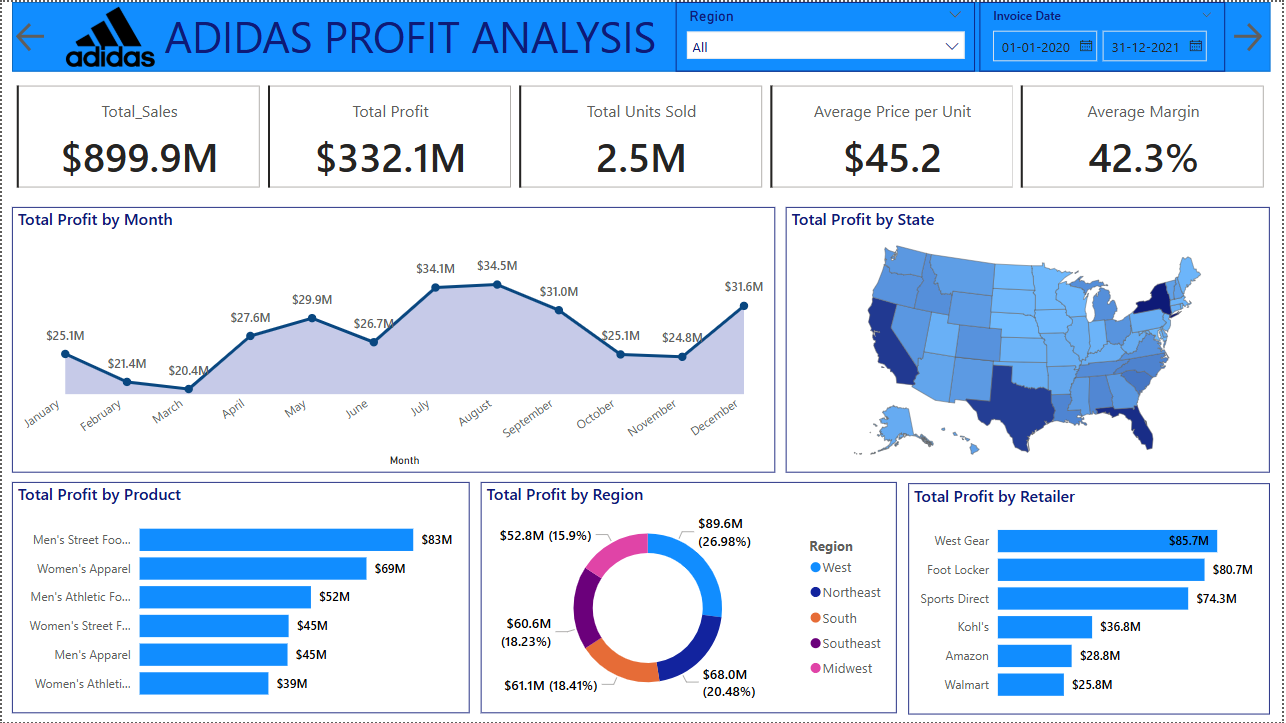

This screenshot's page, from the dashboard's own definition file:
{"tool":"powerbi","page":{"name":"Total Profit","canvas":[1280,720],"ordinal":1},"visuals":[{"type":"shape","box":[10,0,1258.7,69.7],"z":0},{"type":"cardVisual","fields":{"Data":["Table1.Total_Sales","Table1.Total Profit","Table1.Total Units Sold","Table1.Average Price per Unit","Table1.Average Margin"]},"box":[9.8,78.3,1259.5,112.5],"z":1000},{"type":"areaChart","fields":{"Category":["Table1.Invoice Date.Variation.Date Hierarchy.Month"],"Y":["Table1.Total Profit"]},"box":[9.8,205.4,763,265.4],"z":2000},{"type":"shapeMap","fields":{"Category":["Table1.State"],"Value":["Table1.Total Profit"]},"box":[783.8,205.4,484.2,265.4],"z":3000},{"type":"donutChart","fields":{"Category":["Table1.Region"],"Y":["Table1.Total Profit"]},"box":[479.4,480.6,415.8,231.1],"z":4000},{"type":"clusteredBarChart","fields":{"Category":["Table1.Product"],"Y":["Table1.Total Profit"]},"box":[9.8,480.6,457.3,231.1],"z":5000},{"type":"clusteredBarChart","fields":{"Category":["Table1.Retailer"],"Y":["Table1.Total Profit"]},"box":[906.1,481.8,362,231.1],"z":6000},{"type":"slicer","fields":{"Values":["Table1.Region"]},"box":[673.8,0,299.6,69.7],"z":7000},{"type":"slicer","fields":{"Values":["Table1.Invoice Date"]},"box":[977,0,245.8,69.7],"z":8000},{"type":"textbox","box":[157.7,0,509.9,69.7],"z":9000},{"type":"image","box":[48.9,0,118.6,69.7],"z":10000},{"type":"actionButton","box":[1226.5,15.9,41.6,37.9],"z":11000},{"type":"actionButton","box":[9.8,15.9,39.1,37.9],"z":12000}]}

Visuals, with their boxes in screenshot pixels (x1, y1, x2, y2), scaled from the page's 1280x720 canvas onto the 1286x723 screenshot:
shape: (left=10, top=0, right=1275, bottom=70)
cardVisual - Table1.Total_Sales x Table1.Total Profit: (left=10, top=79, right=1275, bottom=192)
areaChart - Table1.Invoice Date.Variation.Date Hierarchy.Month x Table1.Total Profit: (left=10, top=206, right=776, bottom=473)
shapeMap - Table1.State x Table1.Total Profit: (left=787, top=206, right=1274, bottom=473)
donutChart - Table1.Region x Table1.Total Profit: (left=482, top=483, right=899, bottom=715)
clusteredBarChart - Table1.Product x Table1.Total Profit: (left=10, top=483, right=469, bottom=715)
clusteredBarChart - Table1.Retailer x Table1.Total Profit: (left=910, top=484, right=1274, bottom=716)
slicer - Table1.Region: (left=677, top=0, right=978, bottom=70)
slicer - Table1.Invoice Date: (left=982, top=0, right=1229, bottom=70)
textbox: (left=158, top=0, right=671, bottom=70)
image: (left=49, top=0, right=168, bottom=70)
actionButton: (left=1232, top=16, right=1274, bottom=54)
actionButton: (left=10, top=16, right=49, bottom=54)
